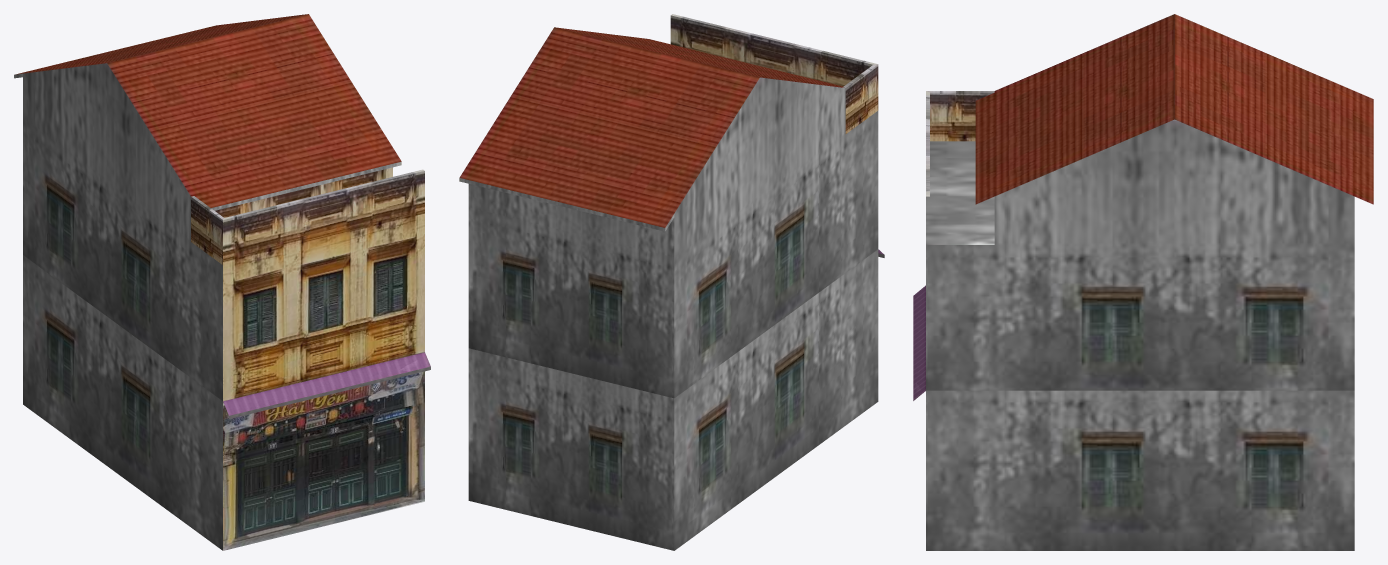
3 renders of one model, left to right at view 1: azimuth 30°, elevation 25°; view 2: azimuth 150°, elevation 25°; view 3: azimuth 270°, elevation 25°, orthographic. The views are drawn at different scales.
Parts seen in each view (by area): view 1: HN989_HaiYen; view 2: HN989_HaiYen; view 3: HN989_HaiYen.
Part boxes in pixels (x1,y1,x2,y2): HN989_HaiYen: [14, 14, 430, 550]; HN989_HaiYen: [459, 14, 884, 550]; HN989_HaiYen: [913, 14, 1373, 550].
Bounding box in the file's own units: 4.66 × 8.89 × 8.6.
Materials: 1 (1 with a texture image).
